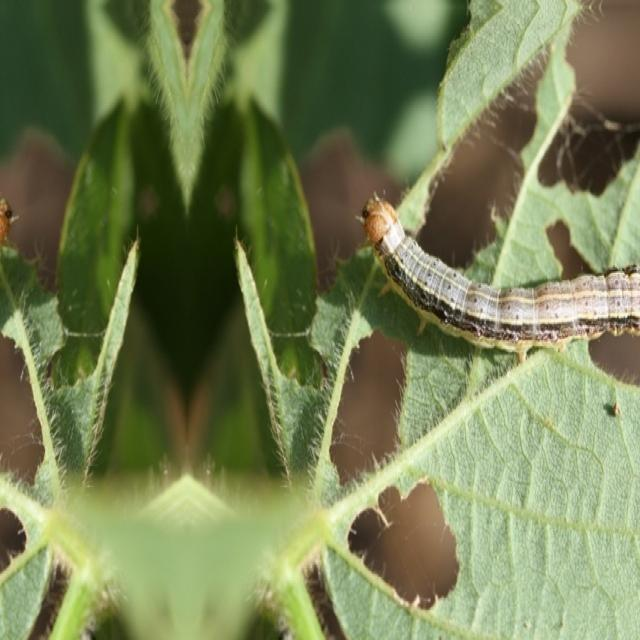armyworm: (354, 187, 639, 360)
